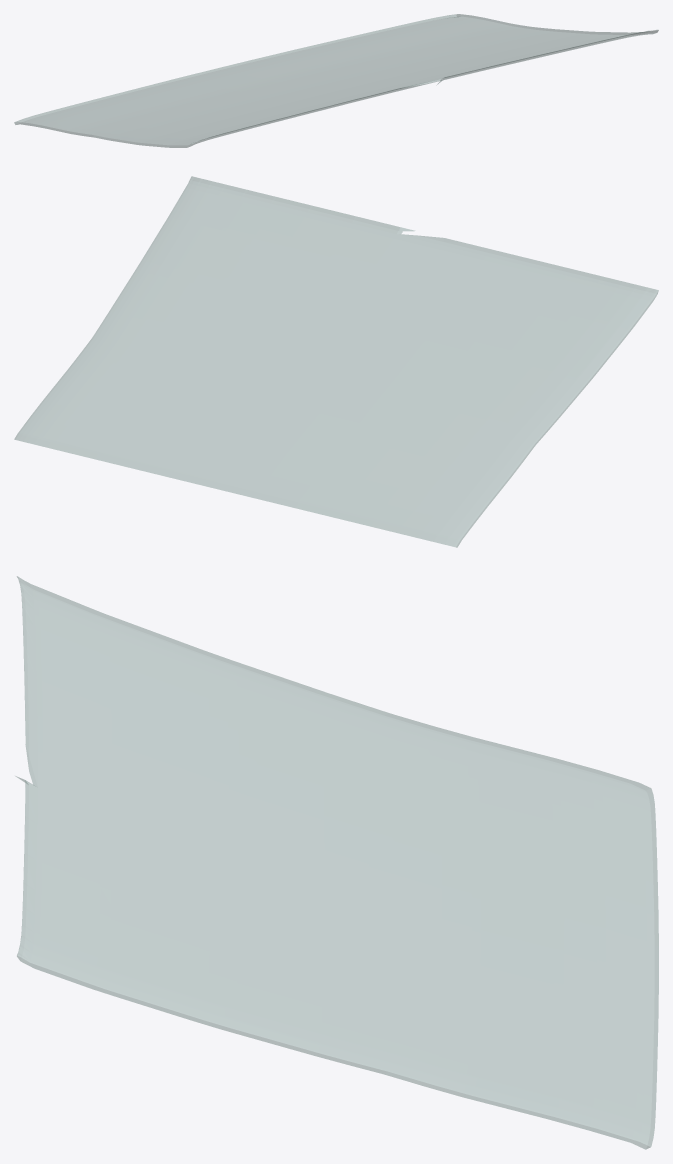
File: para_brisa_van.glb
3 views of the same model, one above another, from view 1: azimuth 30°, elevation 25°; view 2: azimuth 150°, elevation 25°; view 3: azimuth 270°, elevation 25° (orthographic). The views are drawn at different scales.
Parts seen in each view (by area): view 1: para_brisa_van_vidro; view 2: para_brisa_van_vidro; view 3: para_brisa_van_vidro.
Boxes of the visible parts, <box> form: para_brisa_van_vidro: <box>14,14,658,147</box>; para_brisa_van_vidro: <box>14,176,658,547</box>; para_brisa_van_vidro: <box>15,576,658,1149</box>.
Size of the model in its own units: 1.47 by 0.3758 by 1.06.
